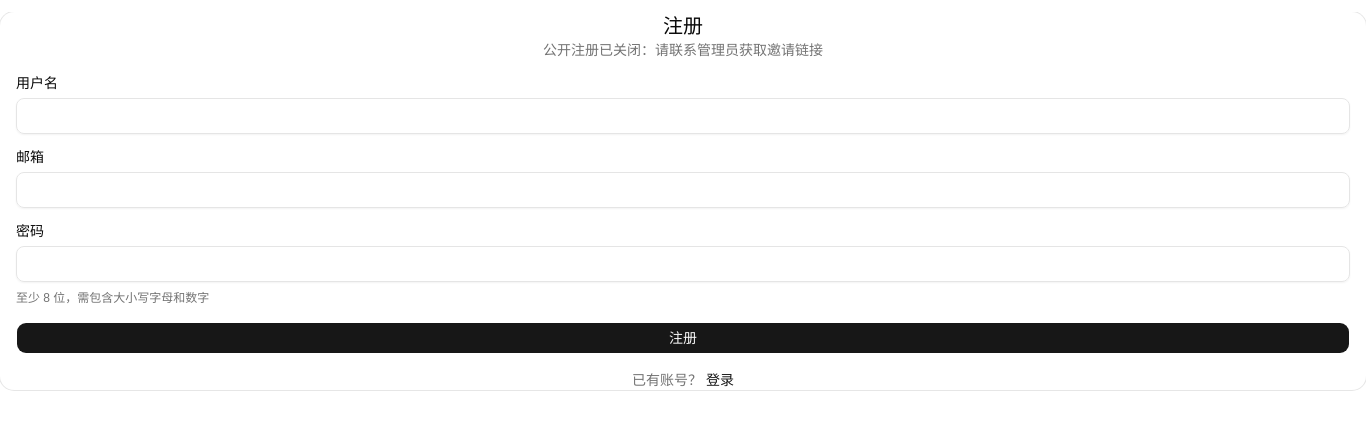
AuthPages › shows register error when backend rejects the request
This screenshot has width=1366, height=444.
Type "godbobo" into the field labelled "用户名" at (683, 116), box [16,98,1350,134]
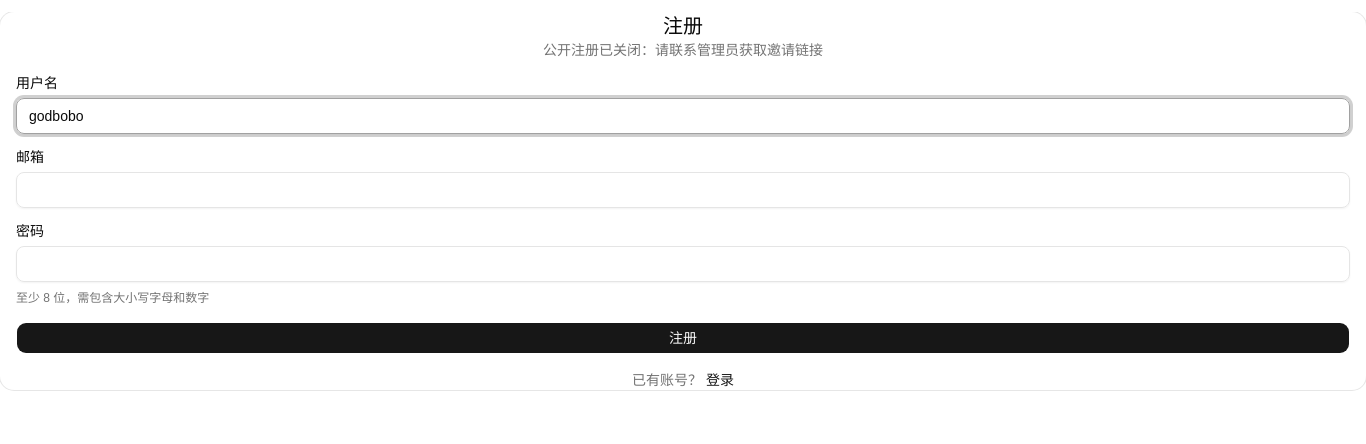
Type "godbobo@example.com" into the field labelled "邮箱" at (683, 190), box [16,172,1350,208]
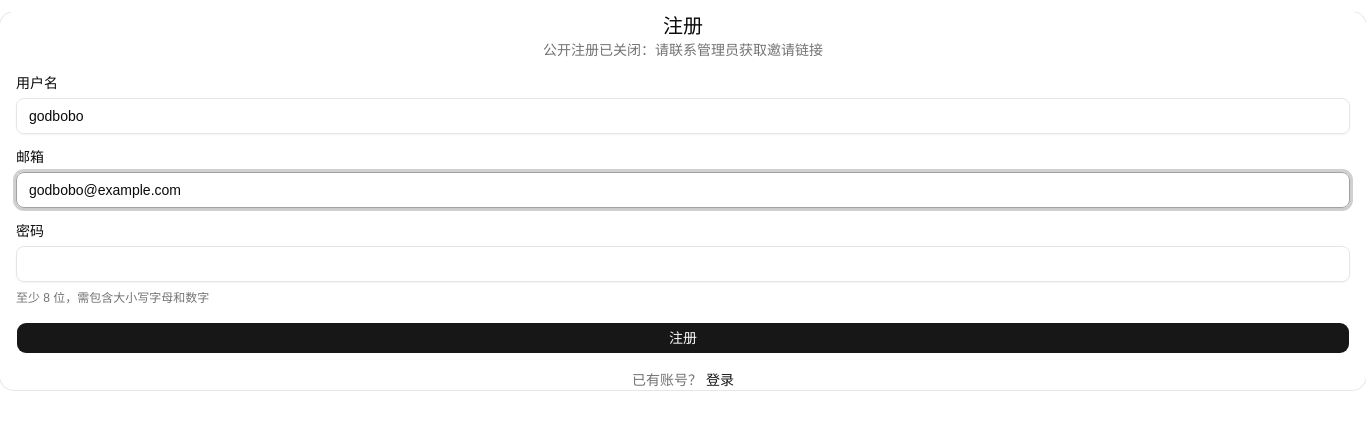
Type "Password123" into the password field labelled "密码" at (683, 264), box [16,246,1350,282]
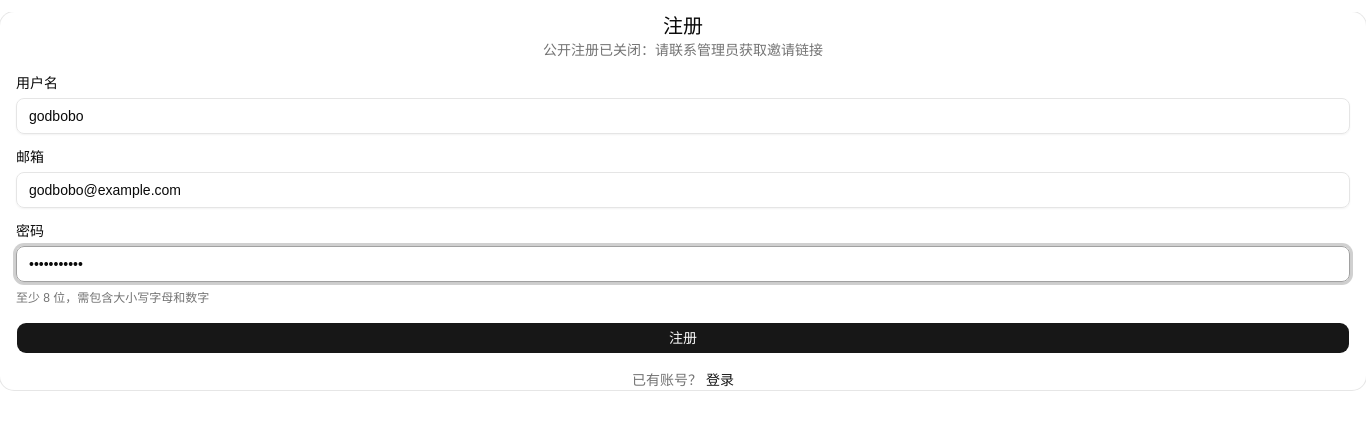
Click the button "注册" at (683, 338), box [16,322,1350,354]
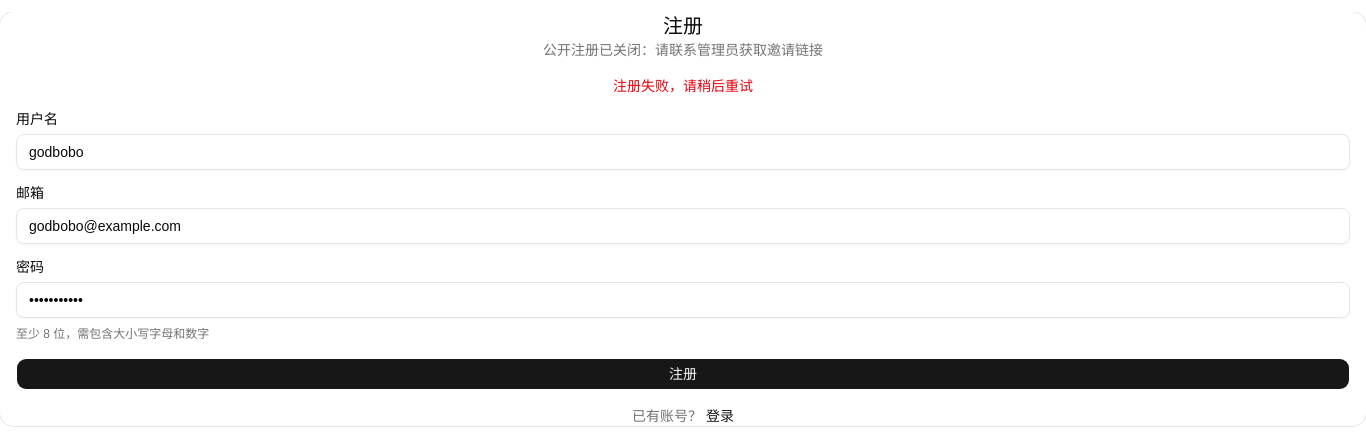
Expected: the text "注册失败，请稍后重试" is shown, [613,78,753,94]
